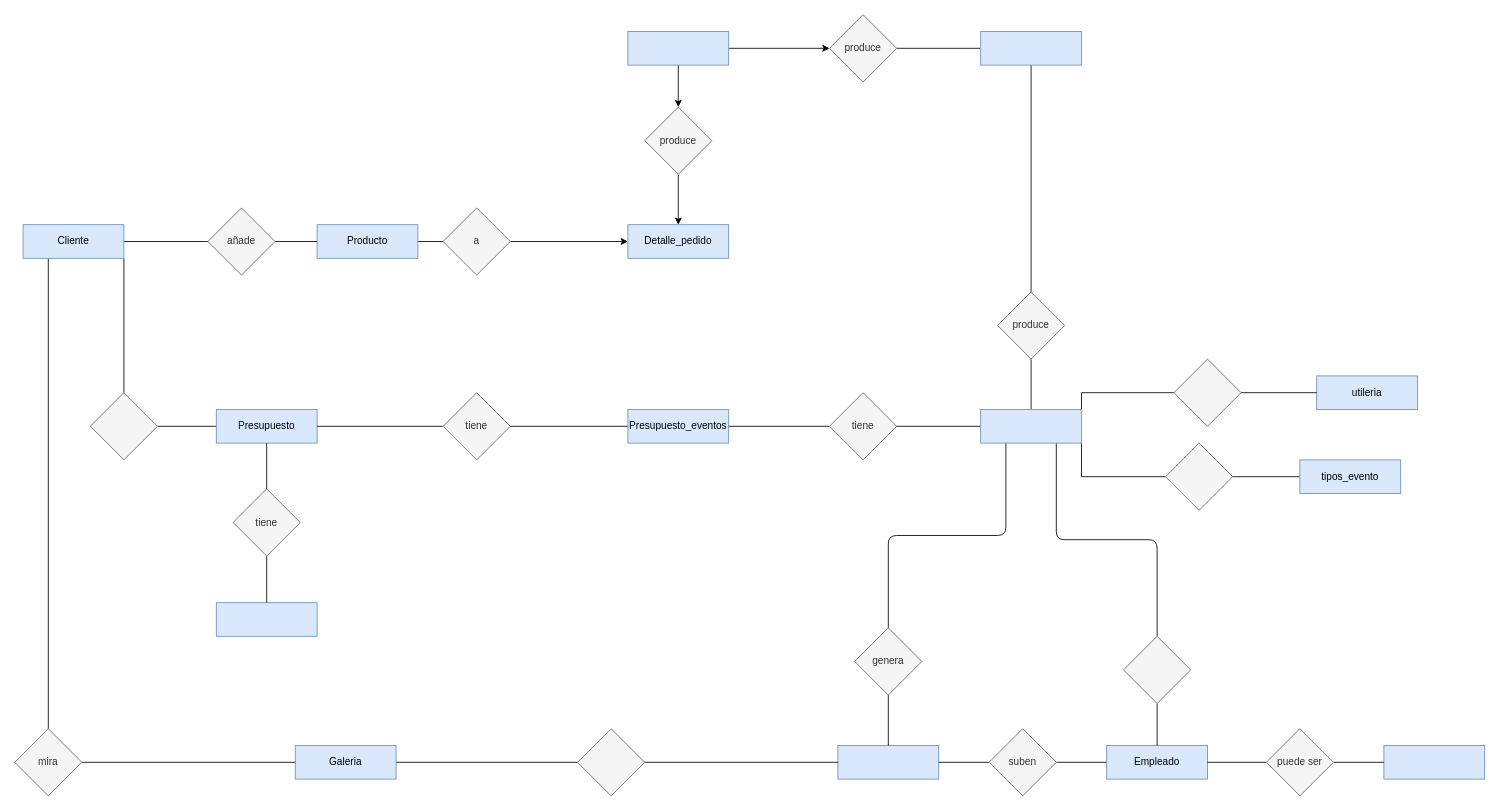
The diagram is 1499 pixels wide and 811 high, and some of its shapes have lost their labels. Each missing label, with the centre of its shape:
ArchivosFTP: the point at 888,762
Concepto: the point at 266,619
contienen: the point at 611,762
Evento: the point at 1031,426
factura: the point at 1031,48
Pedido: the point at 678,48
pueden ser: the point at 1199,476
realizan: the point at 1157,669
solicita: the point at 123,426
Tipo empleado: the point at 1434,762
utiliza: the point at 1207,392
